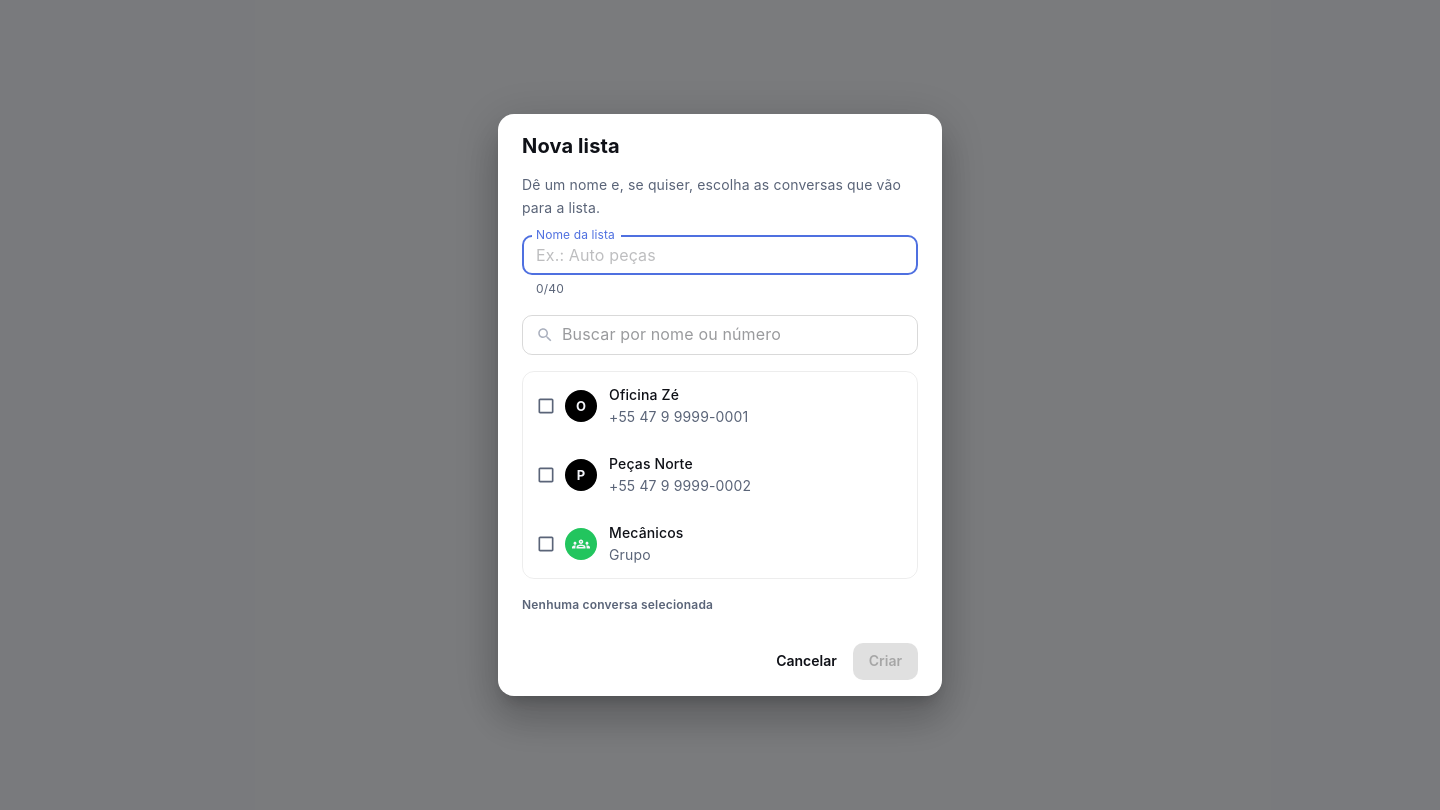
Test: NewListDialog › desmarcar tira a conversa da seleção
In the field labelled "Nome da lista": [720, 255] box [522,235,918,275], type "Clientes"
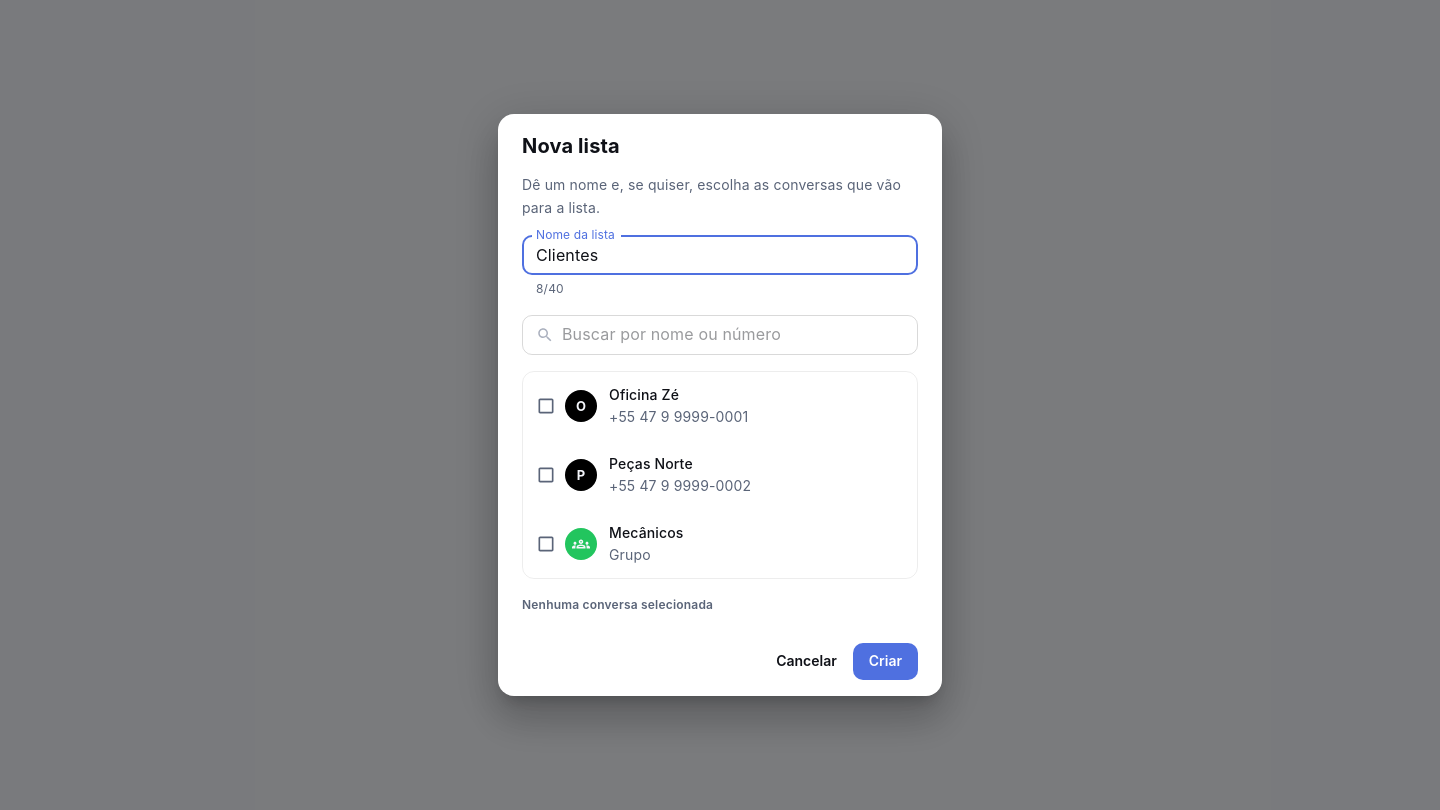
Click the checkbox labelled "O Oficina Zé +55 47 9 9999-0001": [642, 406] box [536,386,748,425]
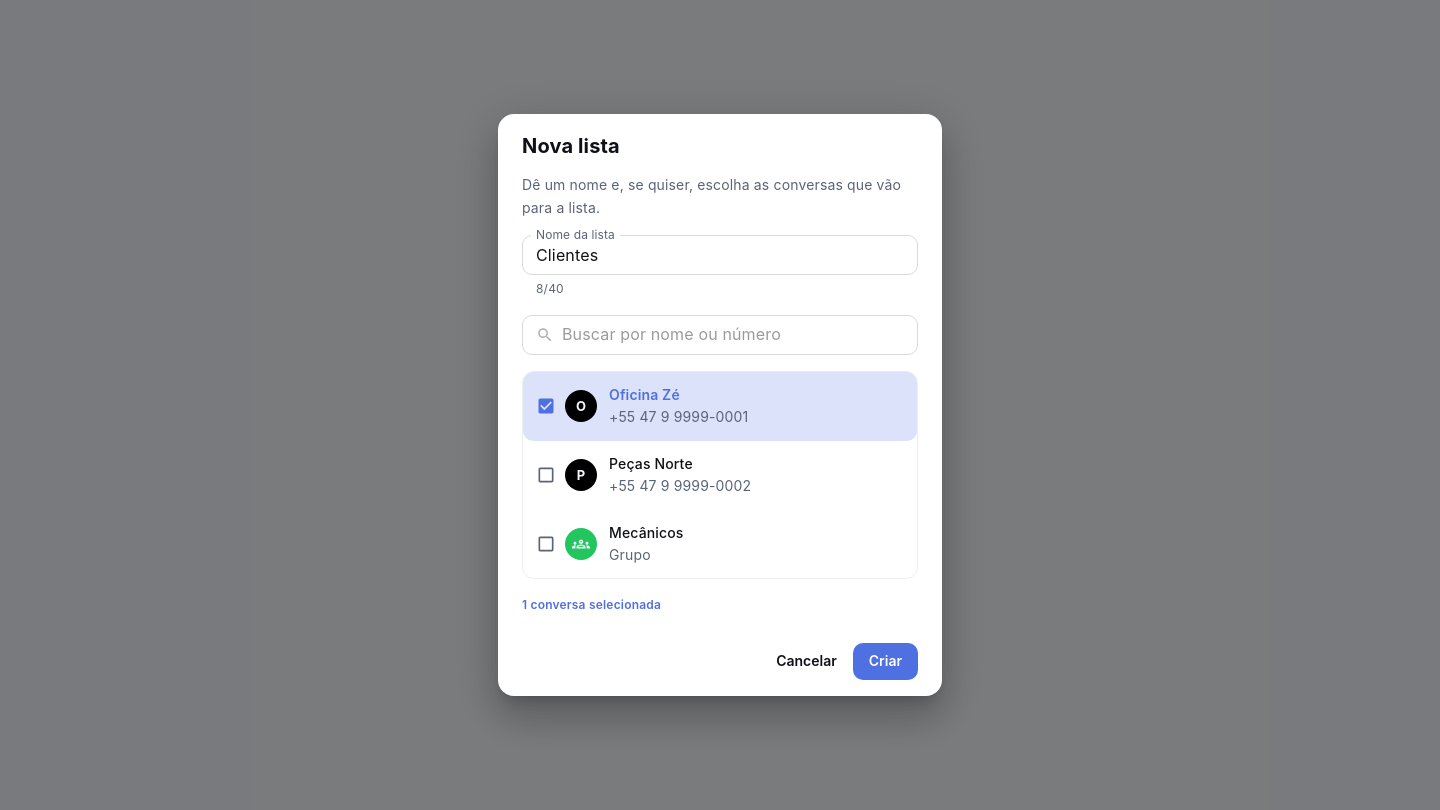
Expected: the checkbox labelled "O Oficina Zé +55 47 9 9999-0001" is checked
Click the checkbox labelled "O Oficina Zé +55 47 9 9999-0001": [720, 406] box [523,372,917,441]
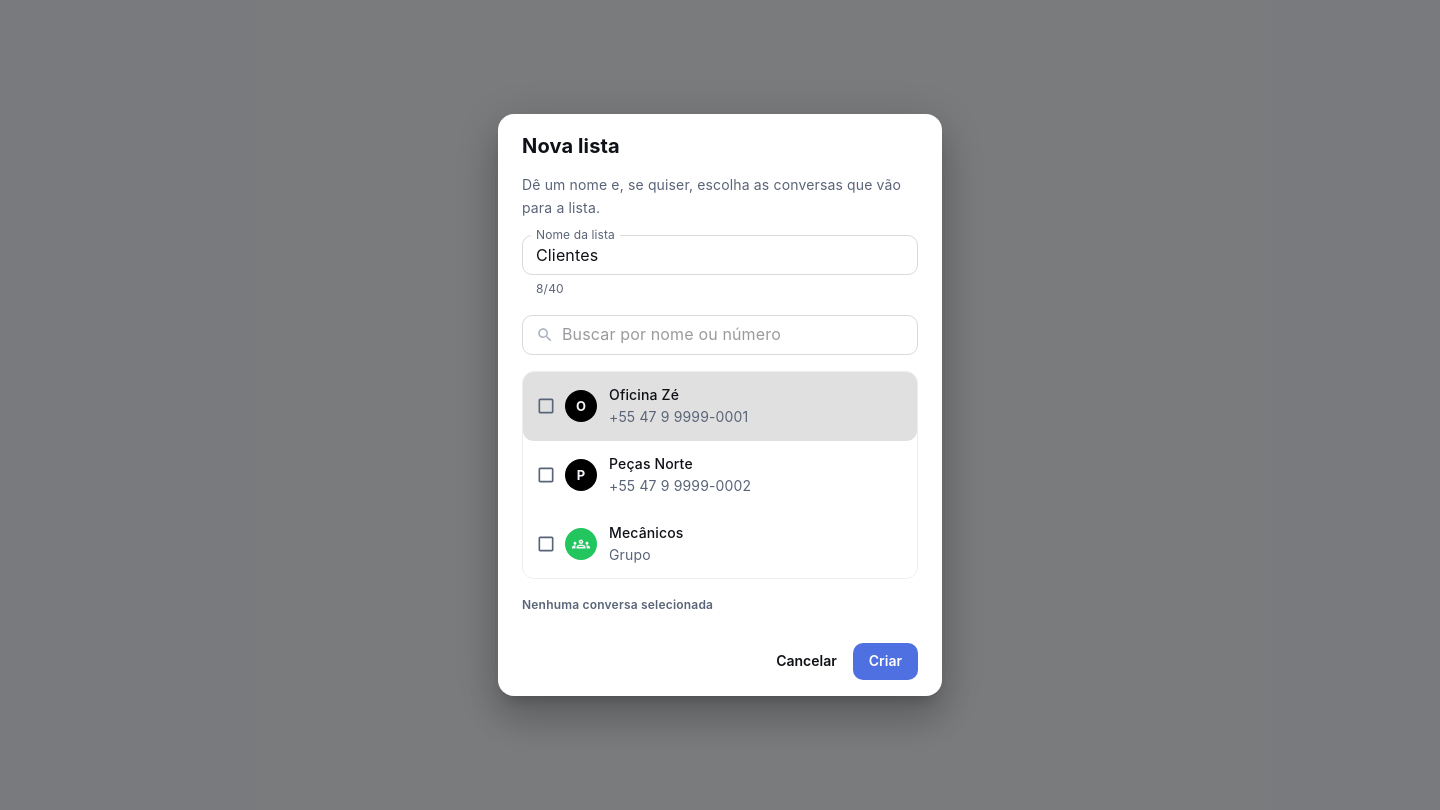
Expected: the text "Nenhuma conversa selecionada" is shown, [522,597,713,612]
